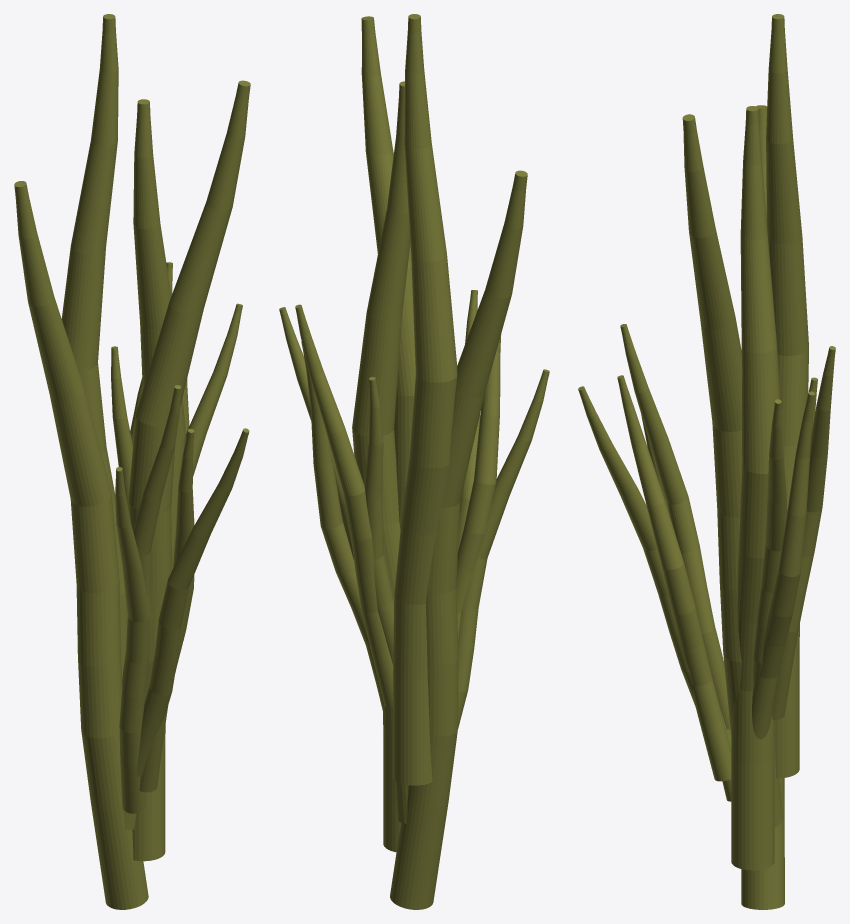
File: grass2.fbx
3 views of the same model, side by side, from view 1: azimuth 30°, elevation 25°; view 2: azimuth 150°, elevation 25°; view 3: azimuth 270°, elevation 25° (orthographic).
Parts seen in each view (by area): view 1: Cylinder.003, Cylinder.001, Cylinder, Cylinder.002, Cylinder.011, Cylinder.009, Cylinder.008, Cylinder.010, Cylinder.005, Cylinder.007; view 2: Cylinder, Cylinder.003, Cylinder.002, Cylinder.001, Cylinder.004, Cylinder.011, Cylinder.008, Cylinder.006, Cylinder.007, Cylinder.005, Cylinder.009; view 3: Cylinder.002, Cylinder.001, Cylinder, Cylinder.010, Cylinder.008, Cylinder.006, Cylinder.004, Cylinder.009, Cylinder.005, Cylinder.003.
Part boxes in pixels (x1,y1,x2,y2): Cylinder.003: [14, 181, 148, 909]; Cylinder.001: [122, 80, 250, 829]; Cylinder: [61, 14, 127, 679]; Cylinder.002: [132, 99, 185, 861]; Cylinder.011: [115, 467, 150, 813]; Cylinder.009: [137, 428, 249, 776]; Cylinder.008: [133, 385, 181, 702]; Cylinder.010: [139, 428, 194, 792]; Cylinder.005: [186, 303, 242, 476]; Cylinder.007: [111, 346, 132, 508]; Cylinder: [393, 14, 457, 785]; Cylinder.003: [390, 170, 527, 909]; Cylinder.002: [352, 81, 410, 852]; Cylinder.001: [361, 16, 415, 823]; Cylinder.004: [295, 304, 393, 707]; Cylinder.011: [458, 369, 549, 728]; Cylinder.008: [456, 334, 501, 638]; Cylinder.006: [301, 341, 383, 710]; Cylinder.007: [364, 377, 393, 664]; Cylinder.005: [279, 307, 353, 559]; Cylinder.009: [458, 290, 480, 550]; Cylinder.002: [731, 106, 780, 870]; Cylinder.001: [682, 114, 783, 826]; Cylinder: [766, 14, 808, 778]; Cylinder.010: [617, 375, 731, 781]; Cylinder.008: [620, 324, 730, 729]; Cylinder.006: [752, 391, 814, 739]; Cylinder.004: [772, 346, 835, 719]; Cylinder.009: [578, 386, 731, 749]; Cylinder.005: [753, 399, 787, 715]; Cylinder.003: [741, 105, 784, 909].
Size of the model in its own units: 29.12 by 104 by 27.47.
